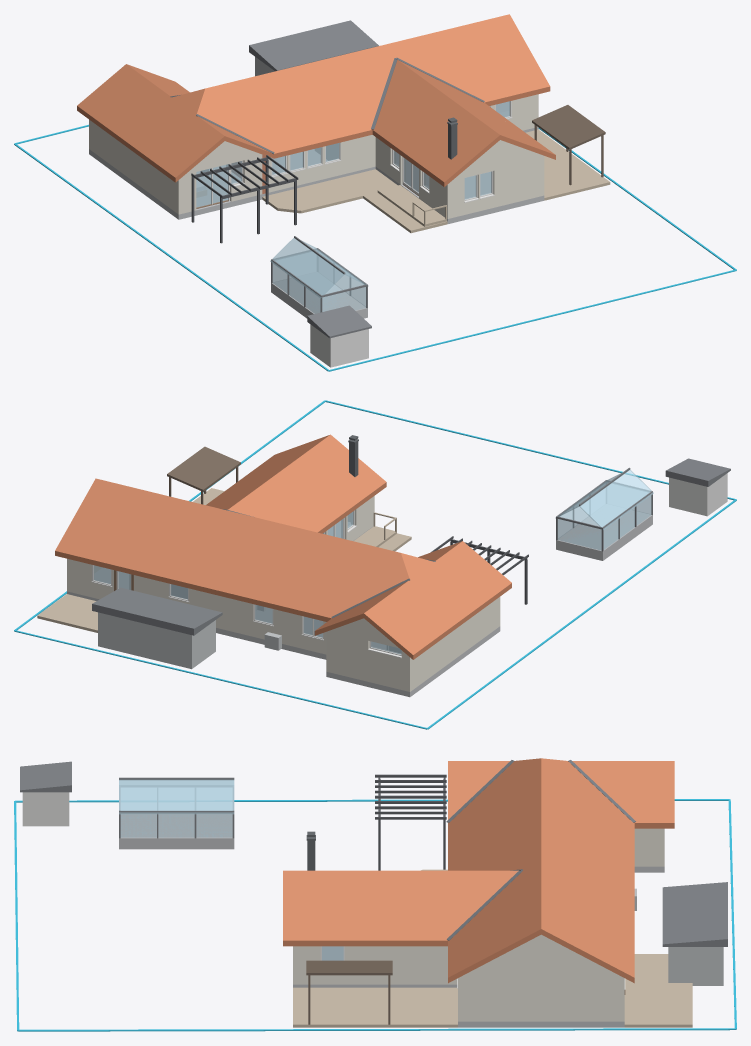
Rendered from Barkgatan3_ext_west_30deg_wide.glb.
3 renders of one model, top to bottom at view 1: azimuth 30°, elevation 25°; view 2: azimuth 150°, elevation 25°; view 3: azimuth 270°, elevation 25°, orthographic. The views are drawn at different scales.
Parts seen in each view (by area): view 1: ROOF, WALLS_EXT, GLASS, DECK_WOOD, SLAB, CONTEXT_DARK, EXT_WALLS, LOT_LINE, PERGOLA, CANOPY, CONTEXT_WALL, WINDOW_FRAME (+1 smaller); view 2: ROOF, EXT_WALLS, GLASS, WALLS_EXT, CONTEXT_DARK, SLAB, CONTEXT_GREY, LOT_LINE, DECK_WOOD, CANOPY, CONTEXT_WALL, WINDOW_FRAME (+1 smaller); view 3: ROOF, WALLS_EXT, DECK_WOOD, CONTEXT_DARK, GLASS, SLAB, LOT_LINE, PERGOLA, CONTEXT_GREY, CANOPY, CONTEXT_WALL, EXT_WALLS (+1 smaller).
Boxes of the visible parts, x1,y1,x2,y2 form: ROOF: [77, 14, 555, 186]; WALLS_EXT: [268, 94, 544, 218]; GLASS: [196, 101, 509, 313]; DECK_WOOD: [262, 129, 610, 233]; SLAB: [89, 111, 544, 318]; CONTEXT_DARK: [249, 20, 378, 338]; EXT_WALLS: [89, 119, 262, 214]; LOT_LINE: [14, 124, 736, 371]; PERGOLA: [191, 155, 298, 243]; CANOPY: [532, 105, 605, 185]; CONTEXT_WALL: [310, 324, 368, 367]; WINDOW_FRAME: [211, 101, 512, 204]; ROOF: [55, 434, 511, 659]; EXT_WALLS: [326, 597, 500, 691]; GLASS: [93, 469, 653, 654]; WALLS_EXT: [67, 496, 374, 654]; CONTEXT_DARK: [92, 458, 730, 635]; SLAB: [67, 509, 652, 697]; CONTEXT_GREY: [98, 612, 281, 669]; LOT_LINE: [14, 400, 736, 729]; DECK_WOOD: [37, 488, 411, 632]; CANOPY: [167, 446, 240, 504]; CONTEXT_WALL: [669, 473, 727, 516]; WINDOW_FRAME: [91, 510, 401, 658]; ROOF: [283, 758, 674, 983]; WALLS_EXT: [293, 934, 624, 1021]; DECK_WOOD: [293, 869, 692, 1027]; CONTEXT_DARK: [20, 761, 727, 946]; GLASS: [119, 779, 343, 960]; SLAB: [119, 814, 664, 1027]; LOT_LINE: [14, 799, 736, 1031]; PERGOLA: [375, 774, 446, 870]; CONTEXT_GREY: [634, 888, 723, 985]; CANOPY: [306, 960, 392, 1024]; CONTEXT_WALL: [22, 792, 69, 826]; EXT_WALLS: [634, 828, 664, 866].
Size of the model in its own units: 24.79 by 5.49 by 32.64.
